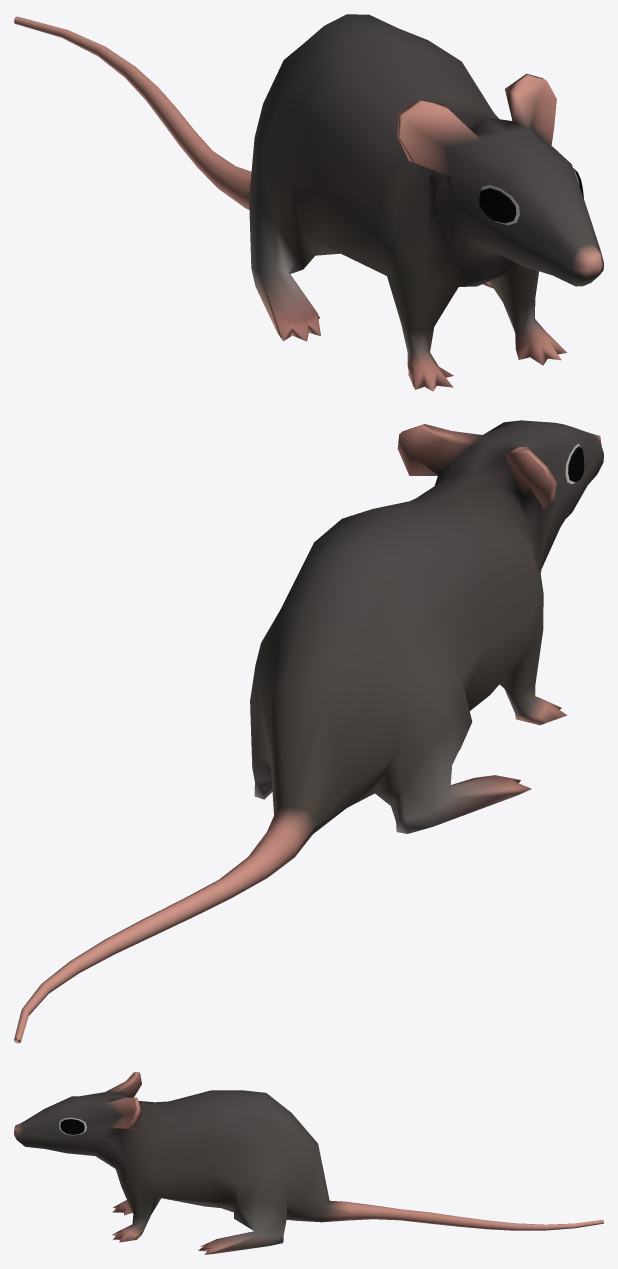
File: rat.glb
The picture shows the model from 3 angles, top to bottom: view 1: azimuth 30°, elevation 25°; view 2: azimuth 150°, elevation 25°; view 3: azimuth 270°, elevation 25°; orthographic projection. The views are drawn at different scales.
Parts seen in each view (by area): view 1: base.071; view 2: base.071; view 3: base.071.
Part boxes in pixels (x1,y1,x2,y2): base.071: [14, 14, 603, 391]; base.071: [14, 420, 603, 1043]; base.071: [14, 1072, 603, 1254].
Size of the model in its own units: 0.3533 by 0.3701 by 1.42.
